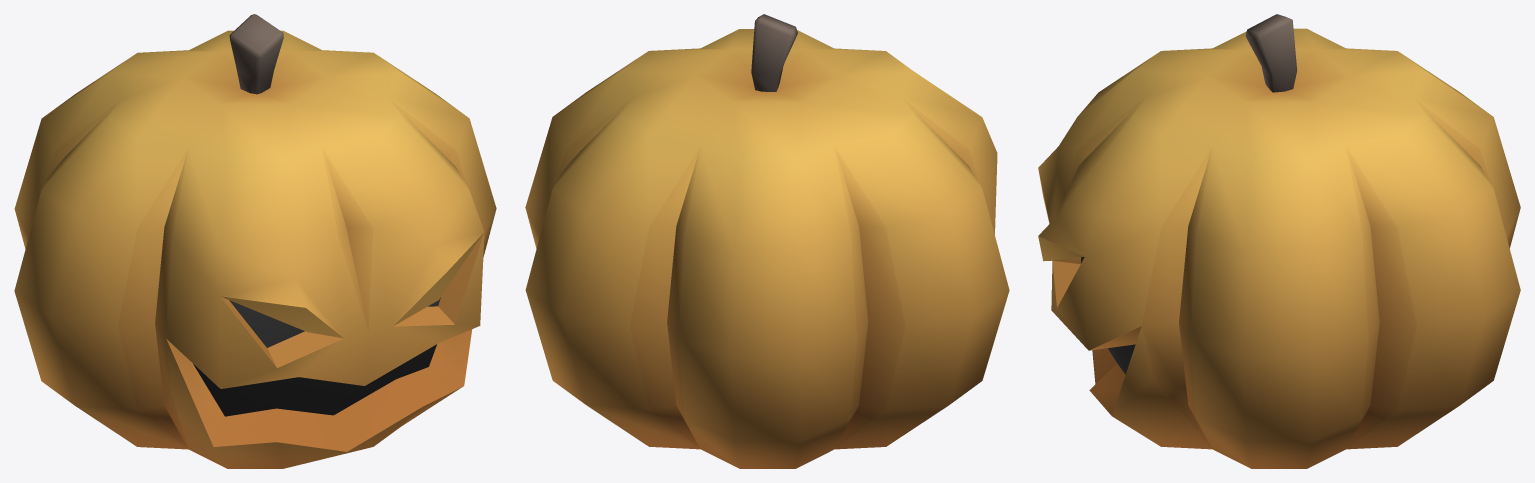
Rendered from pumpkin_yellow_jackolantern.glb.
The picture shows the model from 3 angles, left to right: view 1: azimuth 30°, elevation 25°; view 2: azimuth 150°, elevation 25°; view 3: azimuth 270°, elevation 25°; orthographic projection.
Visible parts, largest first — view 1: pumpkin_yellow_jackolantern; view 2: pumpkin_yellow_jackolantern; view 3: pumpkin_yellow_jackolantern.
Boxes of the visible parts, x1,y1,x2,y2 form: pumpkin_yellow_jackolantern: (14, 14, 496, 468); pumpkin_yellow_jackolantern: (525, 14, 1009, 468); pumpkin_yellow_jackolantern: (1038, 14, 1520, 468).
Bounding box in the file's own units: 1.5 × 1.3 × 1.4.
Materials: 1 (1 with a texture image).
